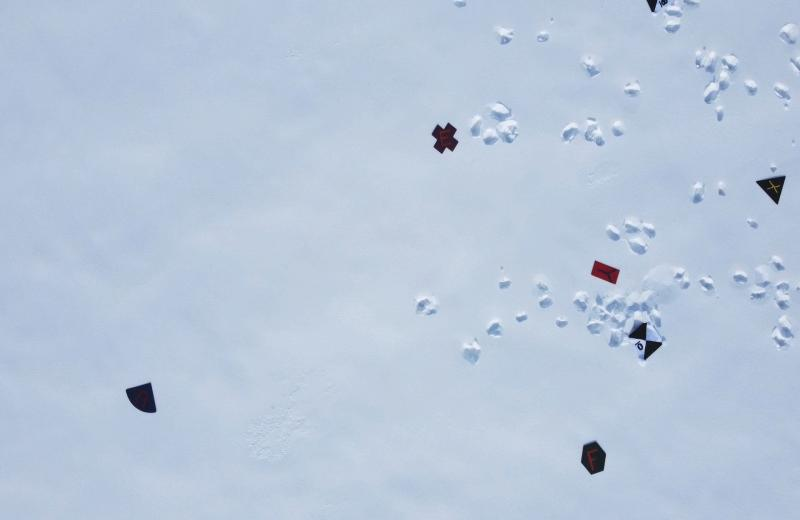Cross: (428, 120, 461, 157)
Hexagon: (577, 436, 609, 478)
Quarter Circle: (124, 377, 160, 417)
Rectangle: (588, 256, 623, 287)
Triangle: (754, 171, 789, 207)
